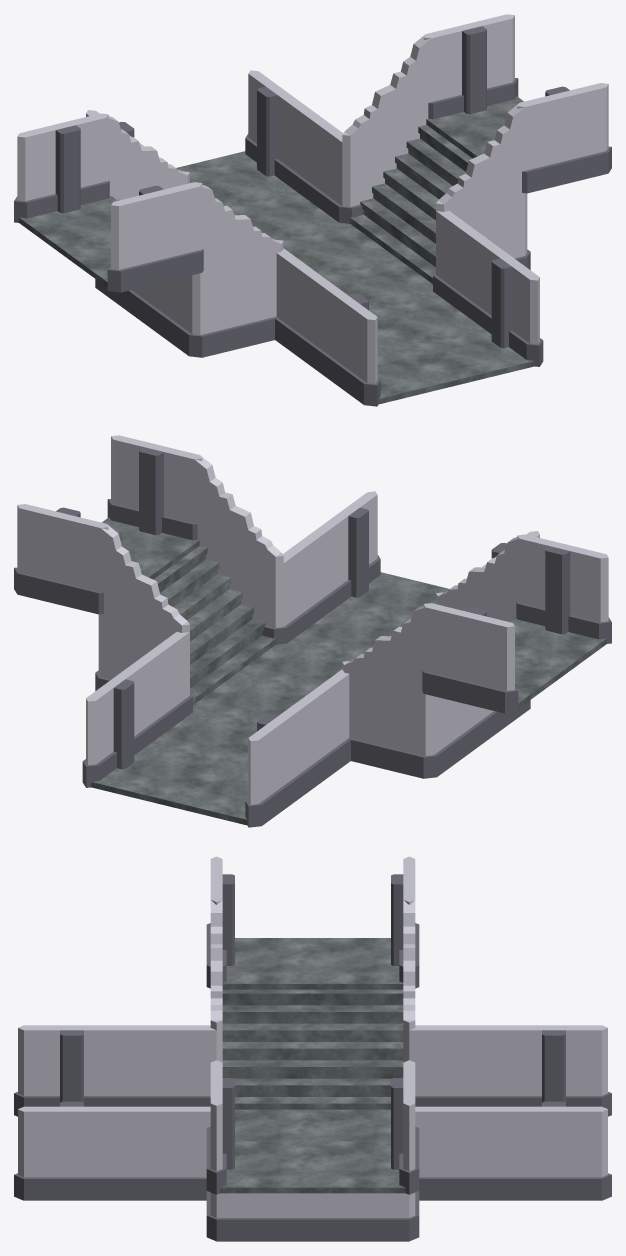
Rendered from intersection_4way_stair_01.fbx.
3 views of the same model, one above another, from view 1: azimuth 30°, elevation 25°; view 2: azimuth 150°, elevation 25°; view 3: azimuth 270°, elevation 25° (orthographic). The views are drawn at different scales.
Parts seen in each view (by area): view 1: stairs_01_102, stairs_01_104, floor_01_100, wall_02_114, wall_02_113, wall_02_117, wall_02_118, floor_01_73, floor_01_99, wall_02_116, wall_02_112, wall_01_110 (+5 smaller); view 2: stairs_01_102, stairs_01_104, floor_01_99, wall_02_117, wall_02_118, wall_02_114, wall_02_113, floor_01_73, floor_01_100, wall_02_115, wall_02_111, wall_02_112 (+5 smaller); view 3: stairs_01_104, stairs_01_102, wall_02_112, wall_02_111, floor_04_105, floor_04_106, wall_02_116, wall_02_115, wall_01_110, wall_01_109, wall_01_108, wall_01_107 (+5 smaller).
Boxes of the visible parts, x1,y1,x2,y2 form: stairs_01_102: [339, 34, 530, 287]; stairs_01_104: [95, 113, 283, 357]; floor_01_100: [369, 290, 534, 404]; wall_02_114: [107, 182, 203, 292]; wall_02_113: [517, 83, 611, 193]; wall_02_117: [14, 113, 109, 222]; wall_02_118: [423, 14, 518, 119]; floor_01_73: [271, 221, 432, 309]; floor_01_99: [176, 151, 340, 239]; wall_02_116: [317, 282, 380, 406]; wall_02_112: [479, 242, 543, 366]; wall_01_110: [292, 104, 351, 223]; stairs_01_102: [95, 455, 286, 704]; stairs_01_104: [342, 535, 530, 778]; floor_01_99: [91, 713, 256, 825]; wall_02_117: [422, 603, 518, 713]; wall_02_118: [14, 504, 108, 614]; wall_02_114: [516, 534, 611, 643]; wall_02_113: [107, 435, 202, 540]; floor_01_73: [192, 642, 354, 730]; floor_01_100: [285, 572, 449, 660]; wall_02_115: [245, 703, 308, 827]; wall_02_111: [82, 664, 146, 787]; wall_02_112: [321, 491, 380, 608]; stairs_01_104: [210, 897, 415, 1111]; stairs_01_102: [206, 1062, 419, 1241]; wall_02_112: [14, 1101, 125, 1200]; wall_02_111: [505, 1101, 611, 1200]; floor_04_105: [220, 1141, 405, 1193]; floor_04_106: [222, 938, 403, 989]; wall_02_116: [14, 1025, 125, 1116]; wall_02_115: [504, 1025, 611, 1116]; wall_01_110: [415, 1106, 511, 1200]; wall_01_109: [115, 1106, 210, 1200]; wall_01_108: [115, 1025, 222, 1106]; wall_01_107: [403, 1025, 511, 1106].
Size of the model in its own units: 62.05 by 20 by 62.05.
